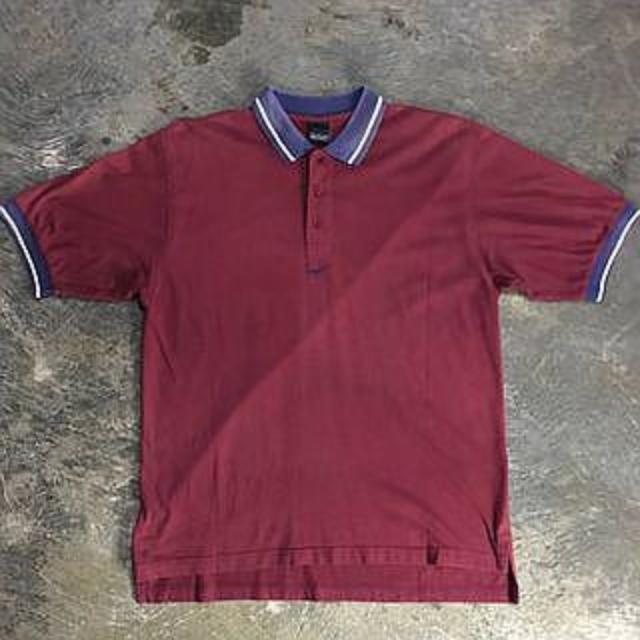T_SHIRT: (0, 76, 640, 611)
